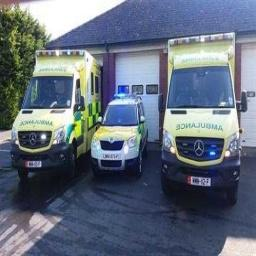ambulance: (161, 33, 246, 204), (10, 50, 100, 178)
